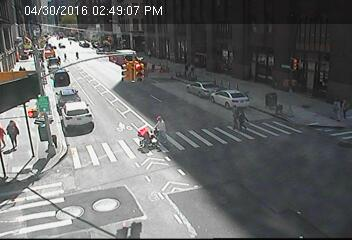neg: (55, 88, 90, 136), (121, 51, 154, 95), (265, 88, 287, 117), (244, 46, 266, 74), (88, 190, 108, 217), (8, 70, 28, 95), (283, 51, 302, 77), (199, 36, 218, 61), (17, 30, 35, 54), (324, 135, 339, 154), (83, 32, 95, 49)
pos: (4, 113, 33, 151), (150, 115, 170, 142), (237, 108, 254, 131), (224, 102, 241, 124), (326, 100, 342, 121), (336, 95, 350, 114), (61, 49, 70, 61), (72, 47, 81, 59)
